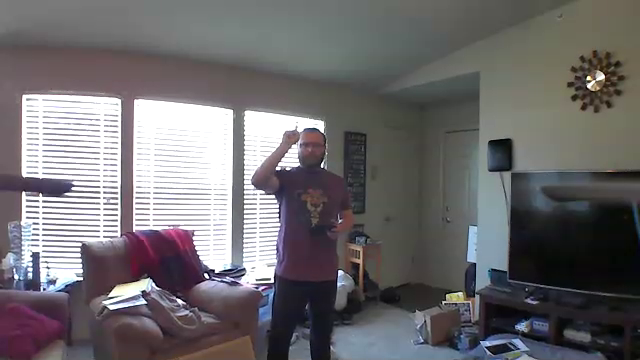up: (278, 123, 302, 147)
